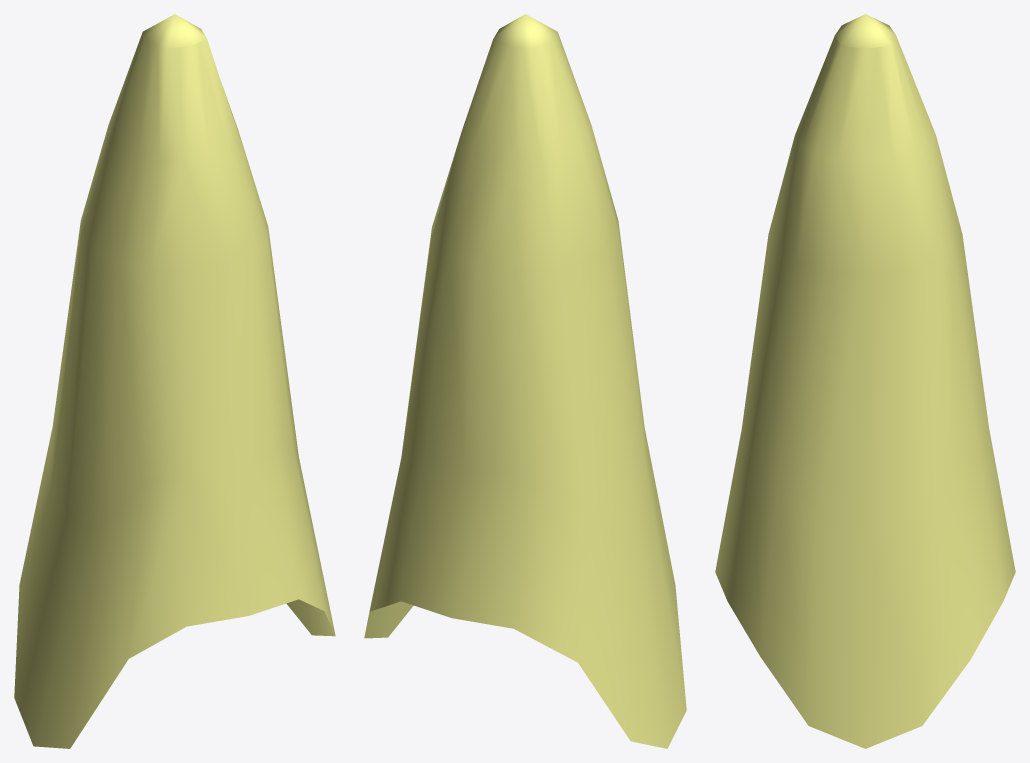
Rendered from D21R_Raiz.obj.
3 views of the same model, side by side, from view 1: azimuth 30°, elevation 25°; view 2: azimuth 150°, elevation 25°; view 3: azimuth 270°, elevation 25° (orthographic).
Visible parts, largest first — view 1: D21R_Raiz; view 2: D21R_Raiz; view 3: D21R_Raiz.
Boxes of the visible parts, x1,y1,x2,y2 form: D21R_Raiz: [14, 14, 335, 748]; D21R_Raiz: [364, 14, 686, 748]; D21R_Raiz: [715, 14, 1015, 748].
Bounding box in the file's own units: 6.89 × 16.49 × 6.32.
